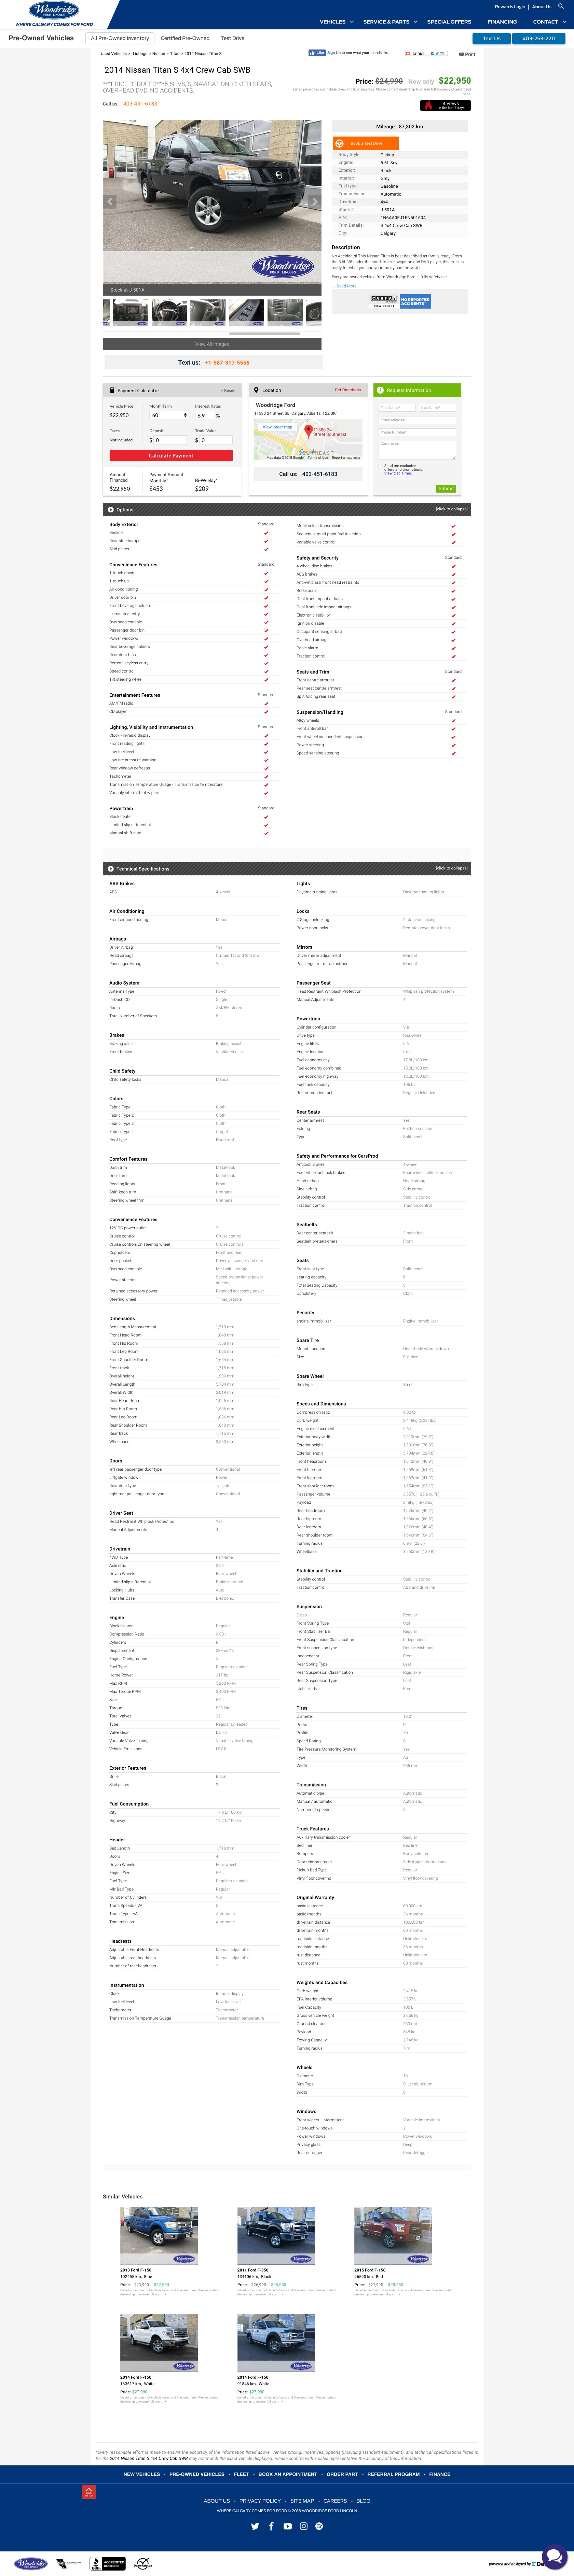car: (312, 199, 319, 207)
